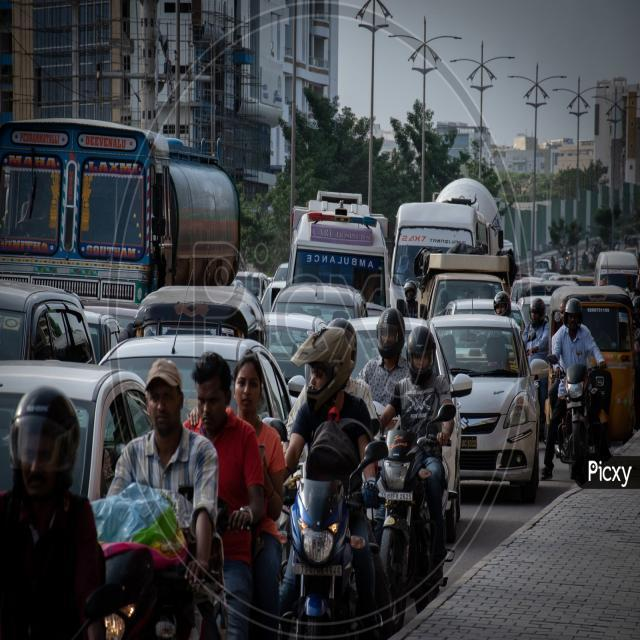emergency-vehicle: (274, 186, 396, 284)
